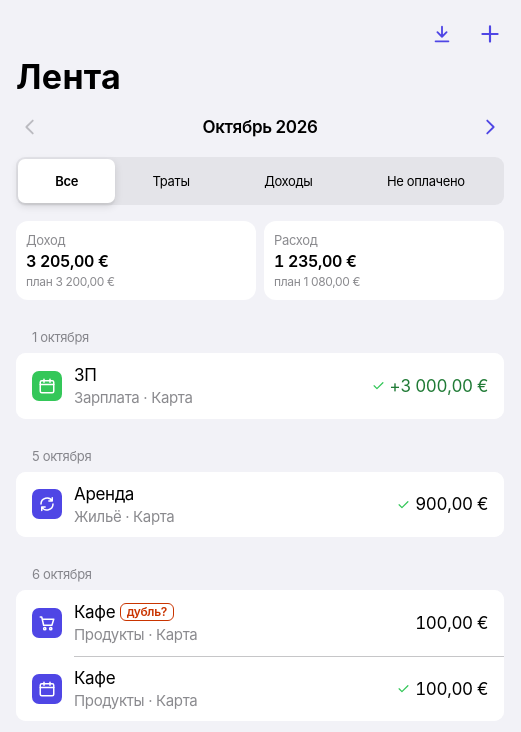
Test: «Лента» screen › an empty filter result says why
Click the radio button labelled "Не оплачено". click: (426, 181)
box: [350, 159, 502, 203]
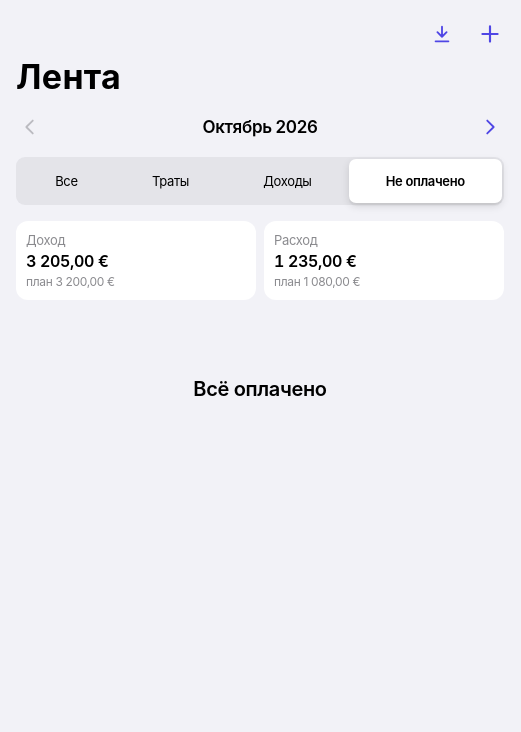
Check: the text "Всё оплачено" is shown, box [193, 376, 327, 402]
